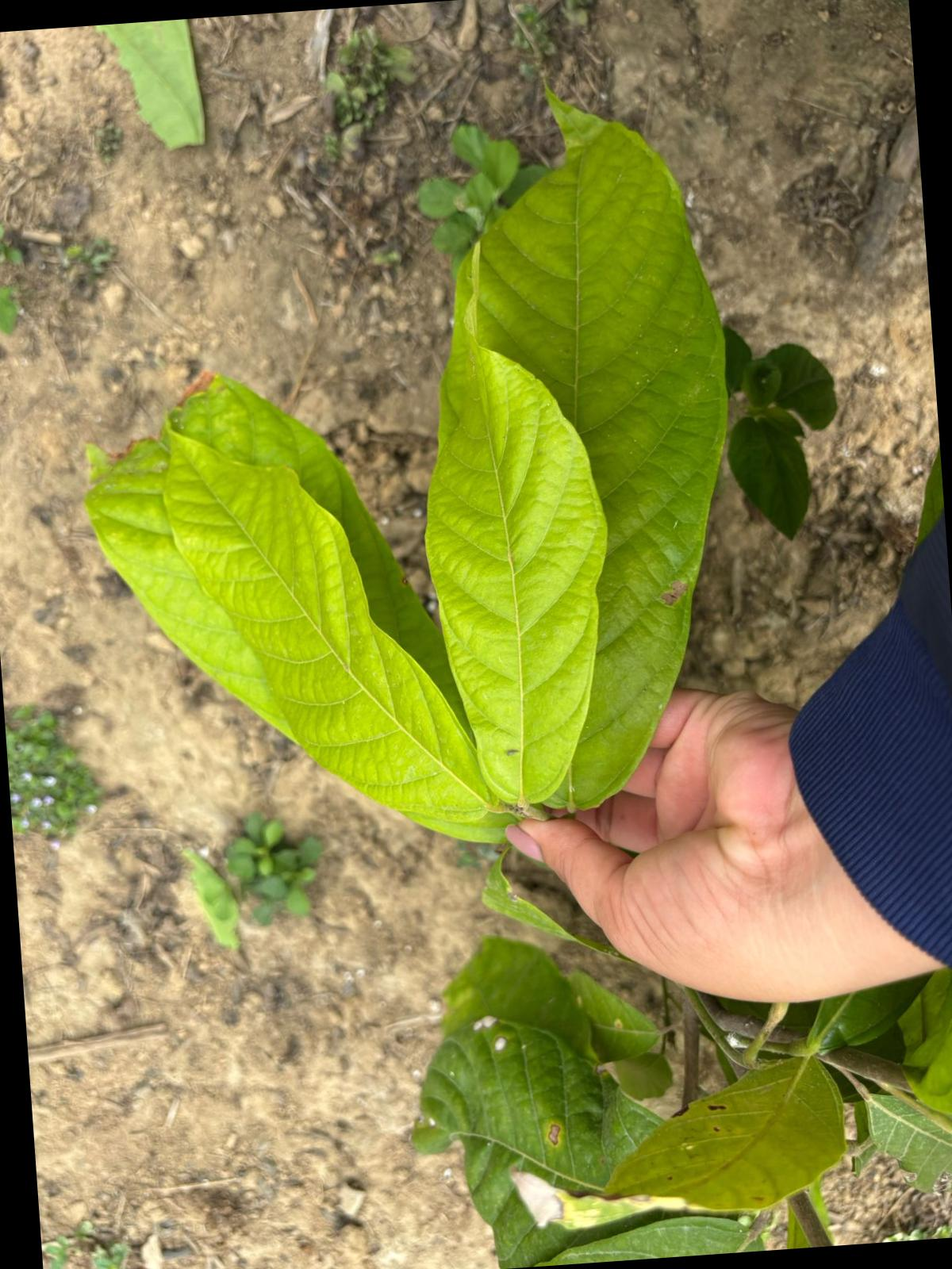Nitrogeno: (457, 98, 727, 803), (166, 437, 489, 821), (427, 301, 607, 803)
